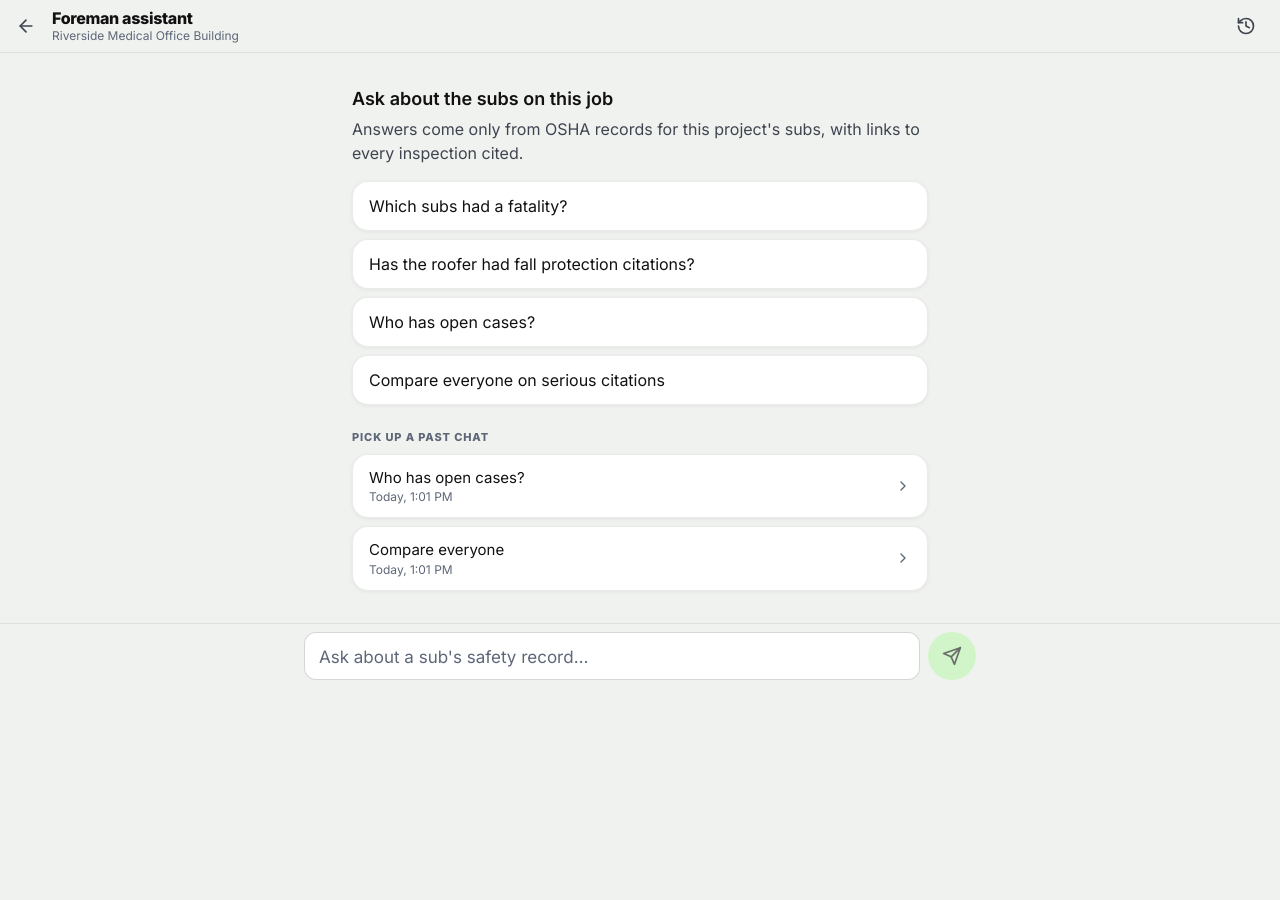
Test: Foreman chat › lists past chats to pick up, reopen or delete
The width and height of the screenshot is (1280, 900).
Click the button named "Past chats" at (1246, 26), box x1=1228 y1=8 x2=1264 y2=44
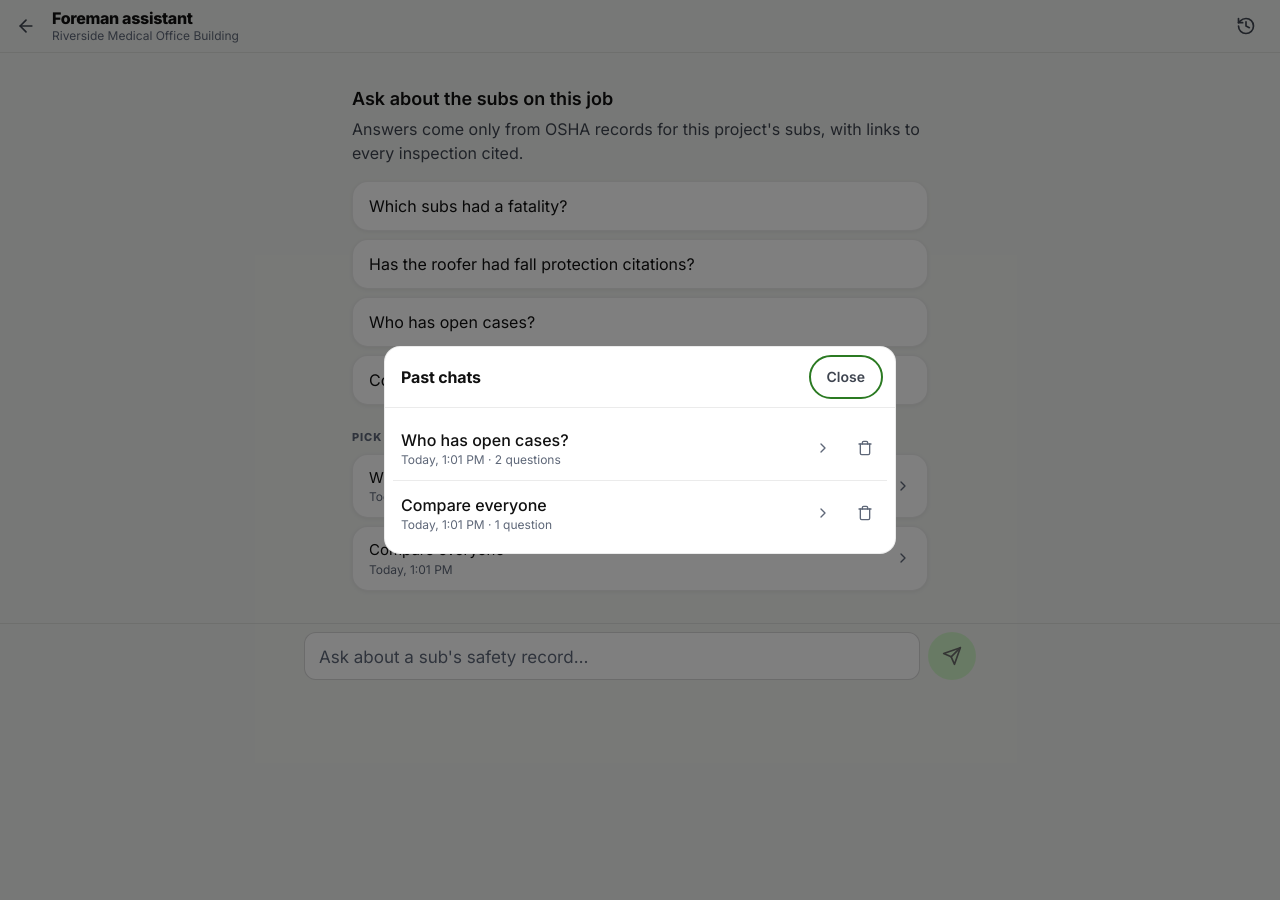
Expected: the text "Today, 1:01 PM · 2 questions" is shown, x1=401 y1=452 x2=561 y2=467
Click the button named "Delete chat: Compare everyone" at (865, 513), box x1=843 y1=491 x2=887 y2=535
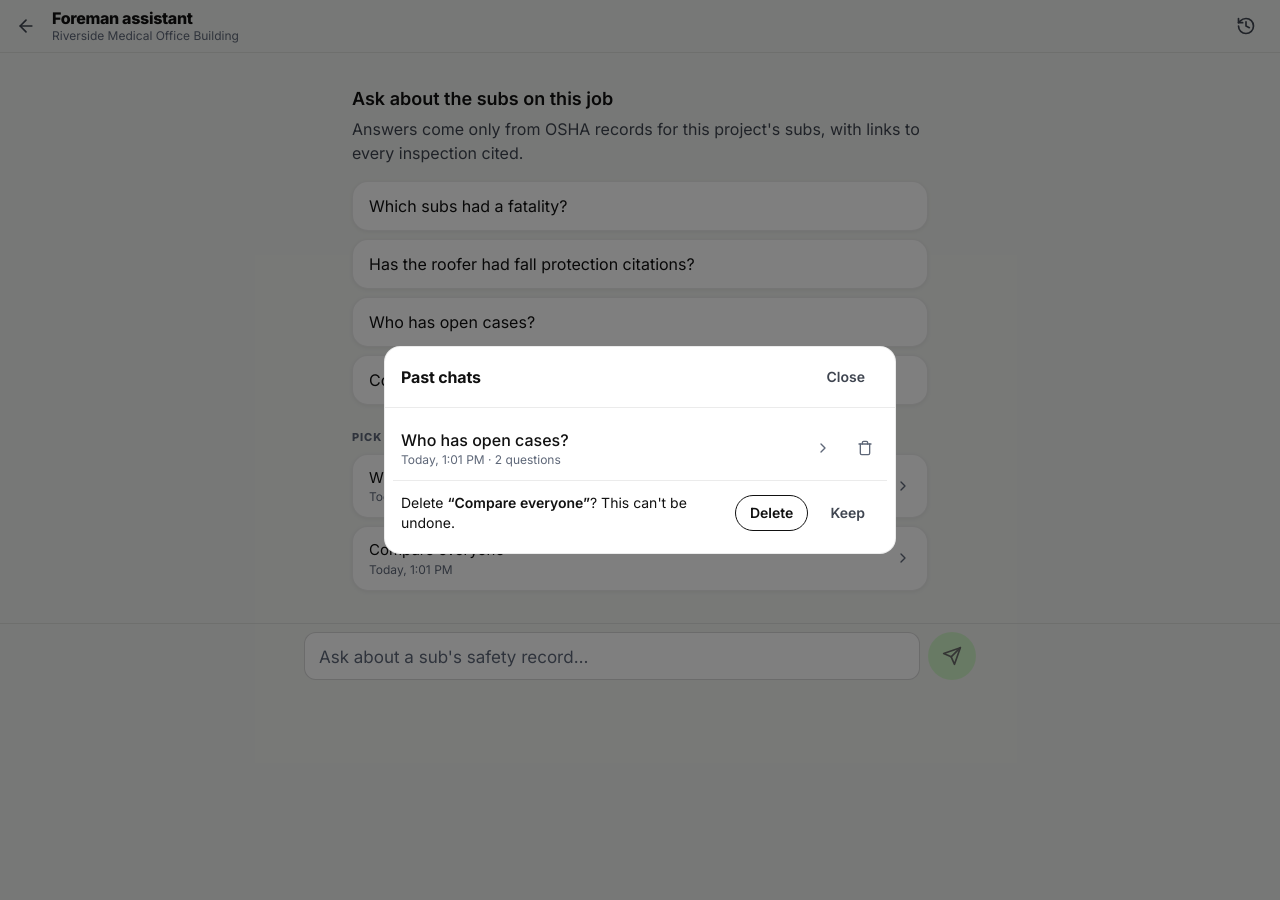
Click the button "Delete" at (772, 513), box x1=735 y1=495 x2=808 y2=531
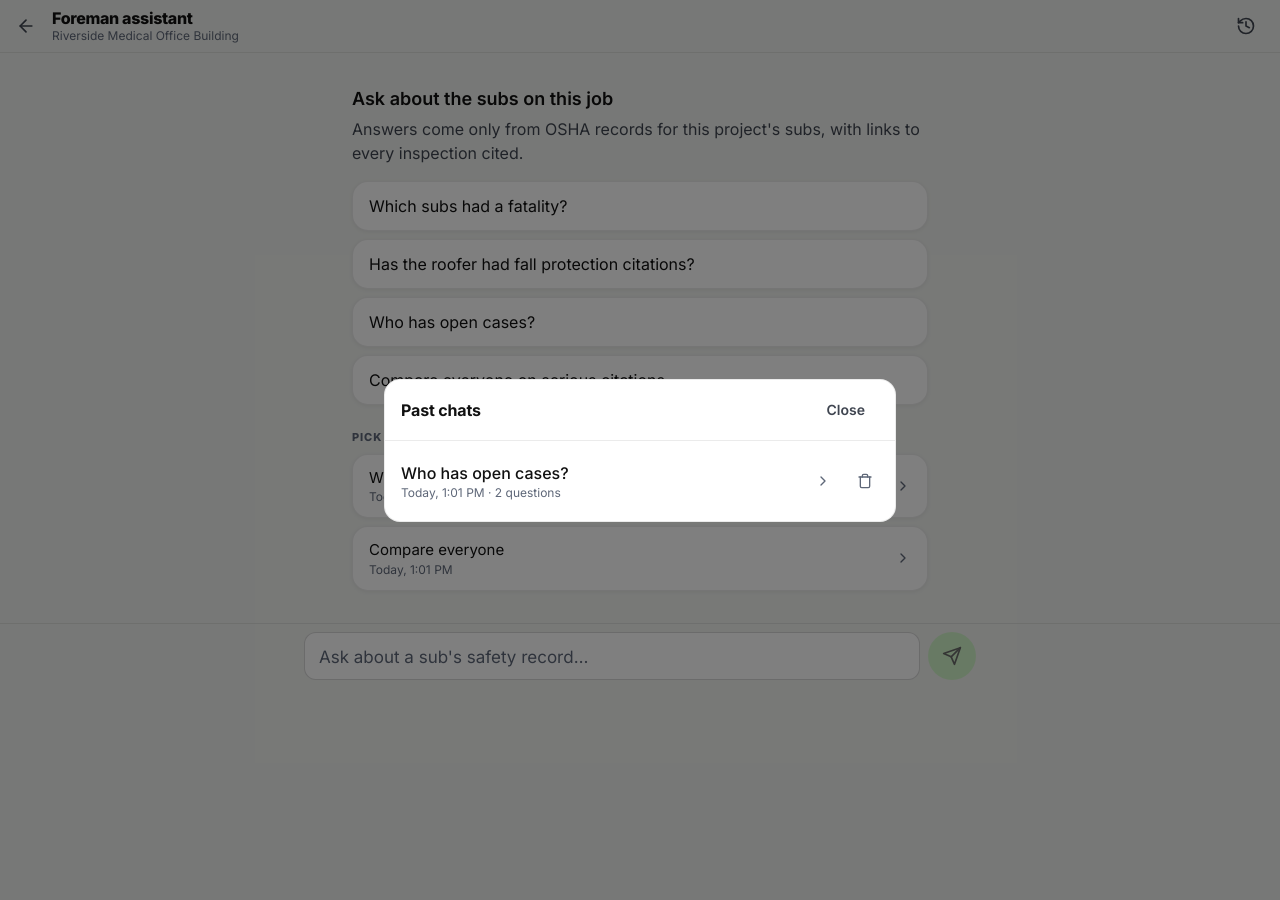
Click the button "Who has open cases? Today, 1:01 PM · 2 questions" at (485, 472), box x1=393 y1=452 x2=839 y2=508
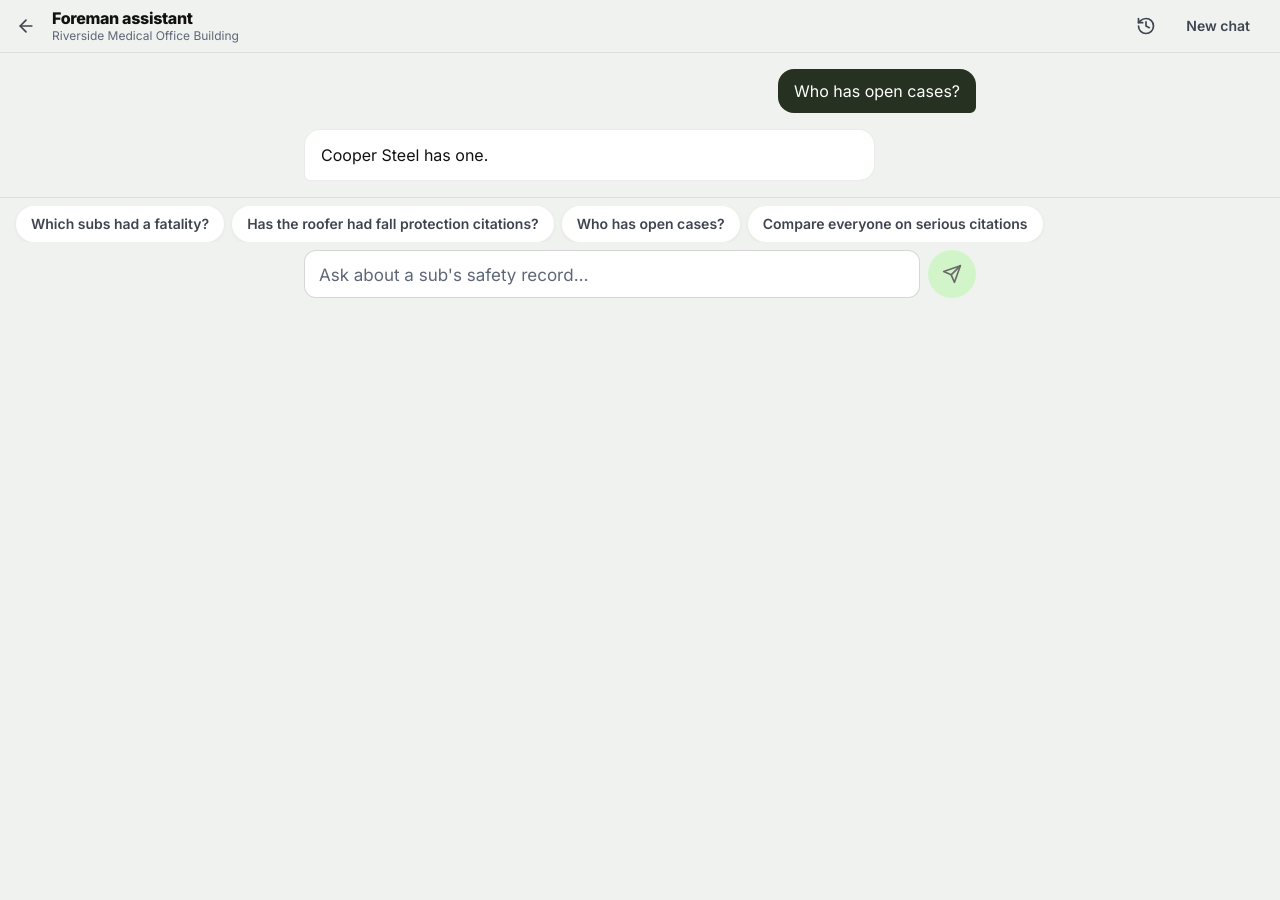
Expected: the dialog is gone
Expected: the text "Cooper Steel has one." is shown, x1=321 y1=145 x2=488 y2=165
